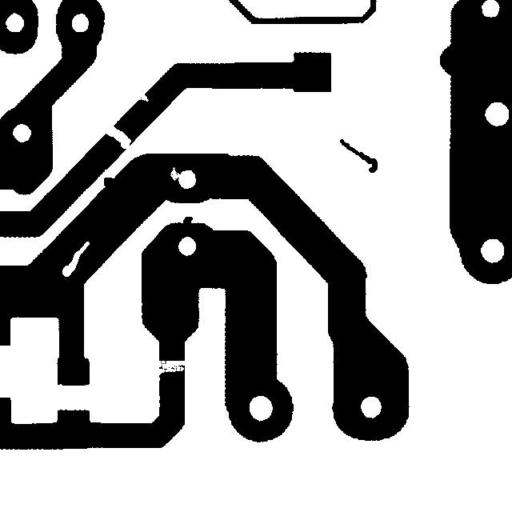copper: (332, 131, 385, 180)
mousebite: (162, 159, 189, 188), (129, 85, 156, 109)
open: (97, 116, 138, 156), (146, 353, 195, 382)
pin-hole: (54, 234, 97, 284)
spur: (96, 170, 121, 194), (175, 209, 200, 233)
